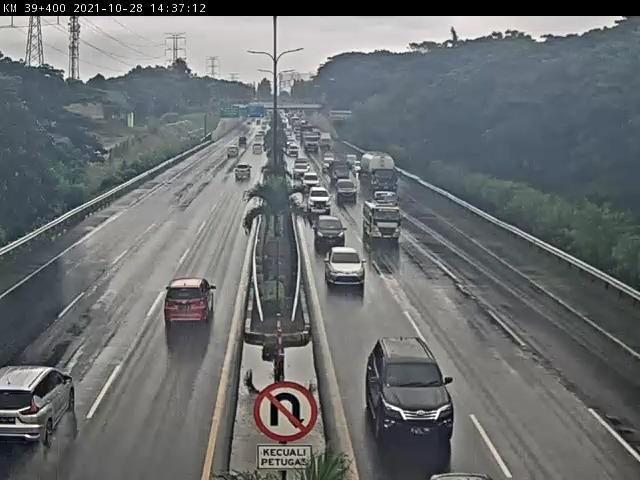car: (364, 332, 459, 444), (1, 363, 81, 446), (161, 272, 223, 335), (321, 246, 378, 288), (429, 460, 500, 480), (313, 216, 347, 246), (370, 189, 417, 210), (307, 186, 332, 214), (335, 179, 357, 203), (233, 163, 255, 184), (300, 172, 323, 191), (223, 146, 241, 161), (253, 143, 267, 157), (237, 138, 251, 148)
truck: (363, 201, 403, 247), (360, 152, 399, 198), (330, 164, 350, 186)
